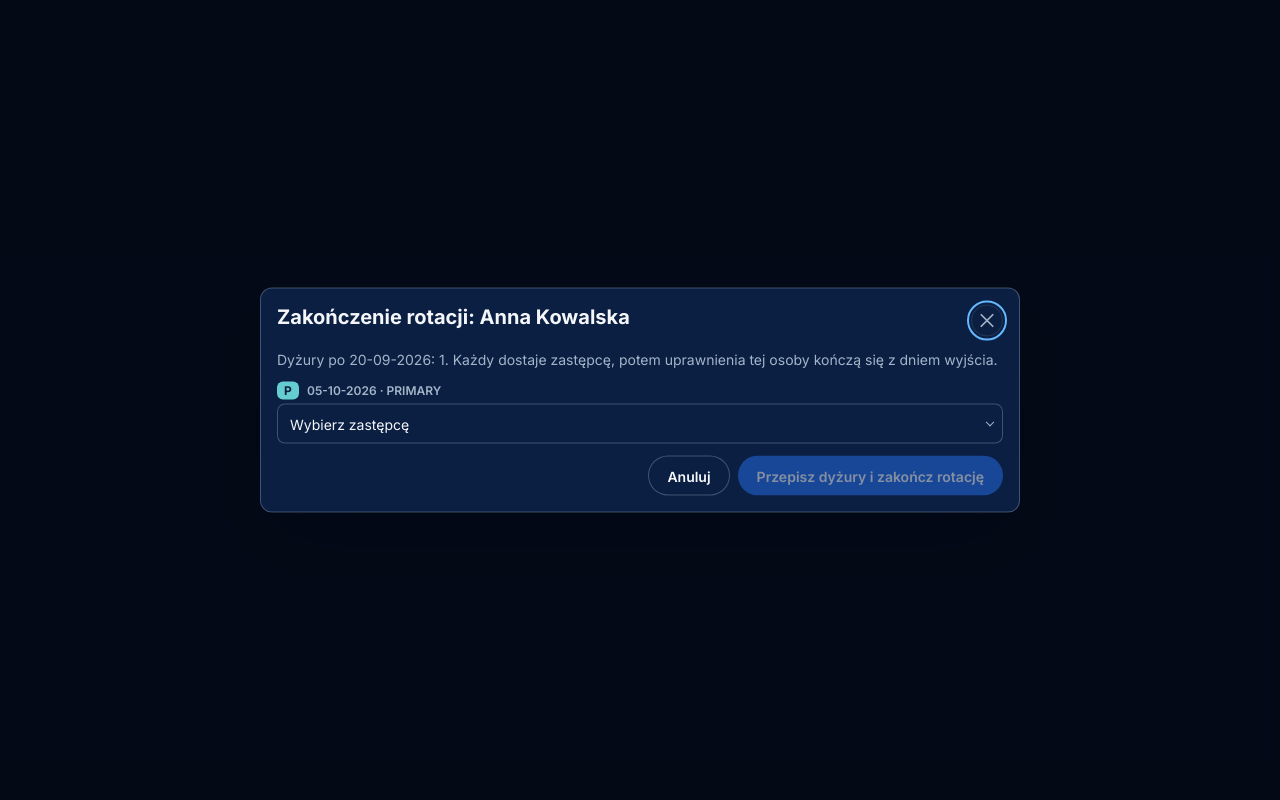
Test case: OffboardingDialog › shows a refused rewrite that names no rule as a plain failure
The width and height of the screenshot is (1280, 800).
Select "Marek Nowak" in the dropdown at [640, 424], box [277,404,1003,444]
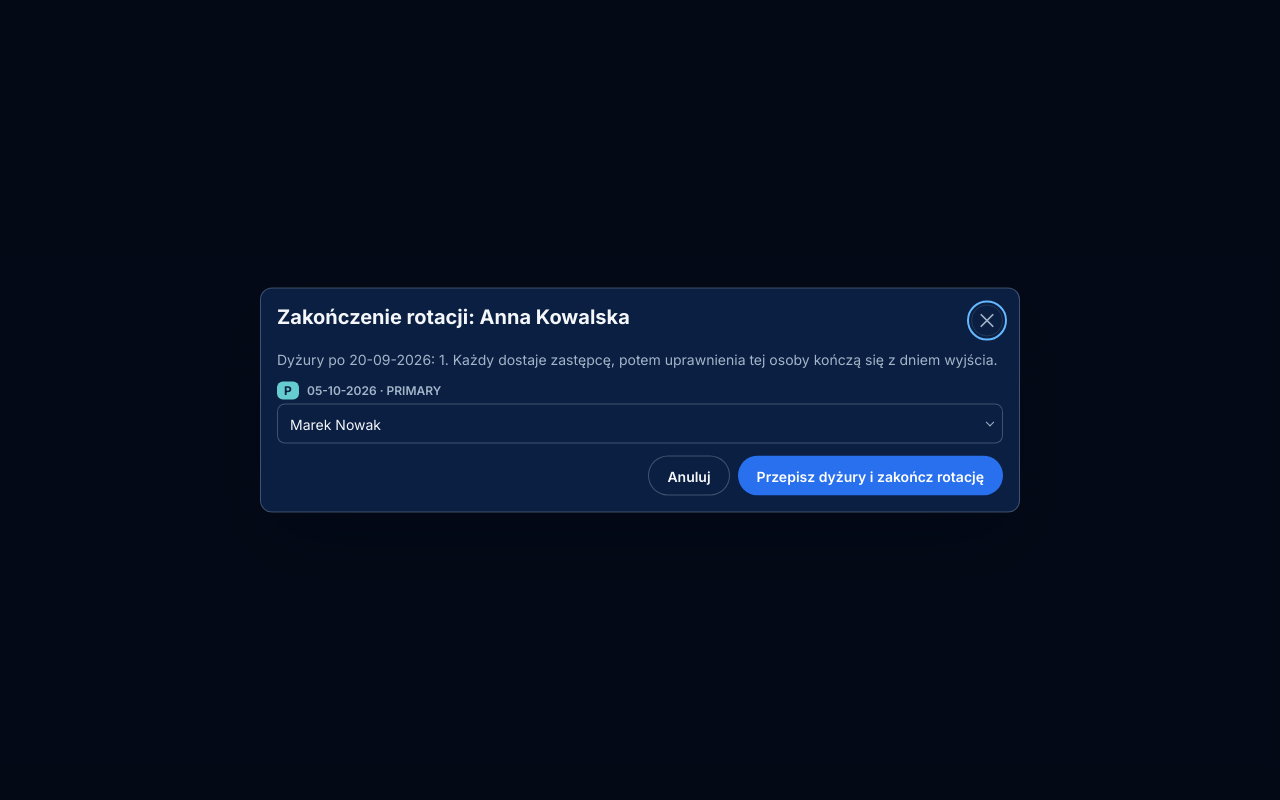
Click the button "Przepisz dyżury i zakończ rotację".
click(870, 476)  # box [738,456,1003,496]
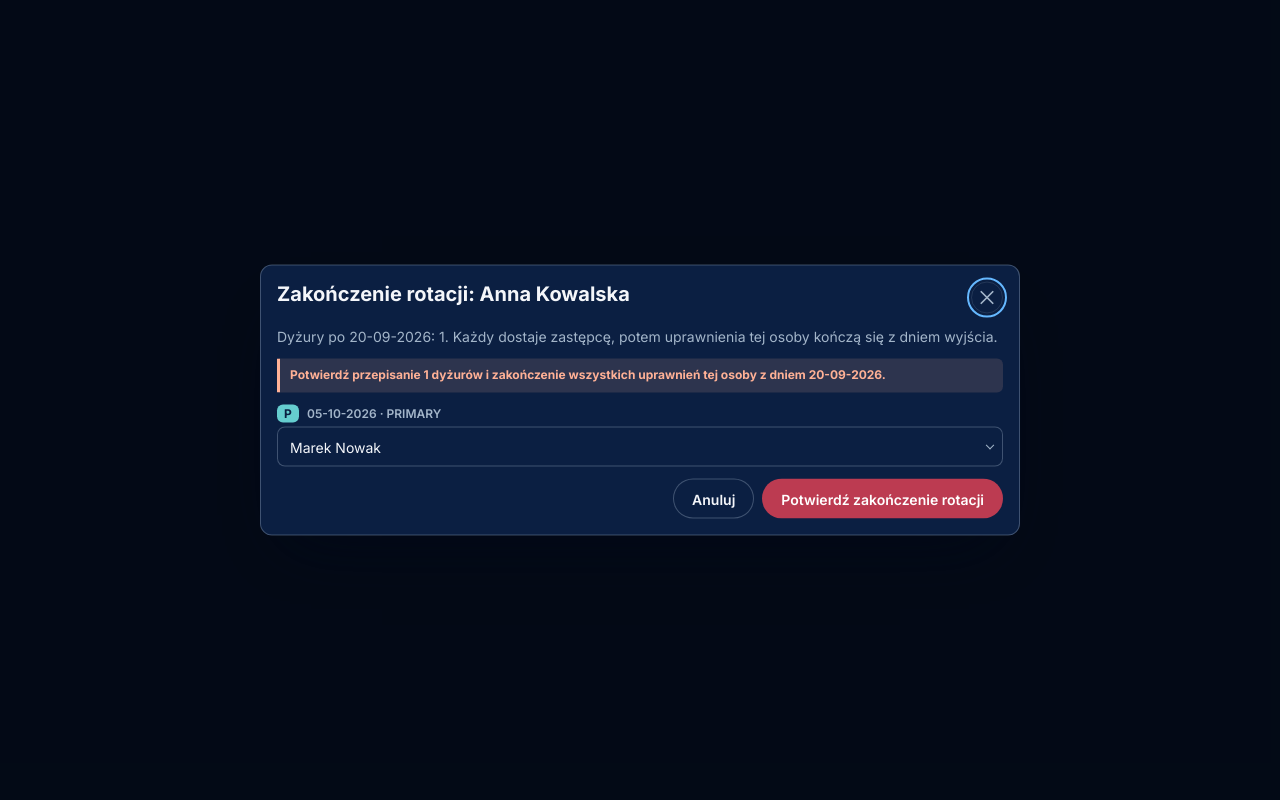
Click the button "Potwierdź zakończenie rotacji".
click(883, 498)  # box [762,478,1003,518]
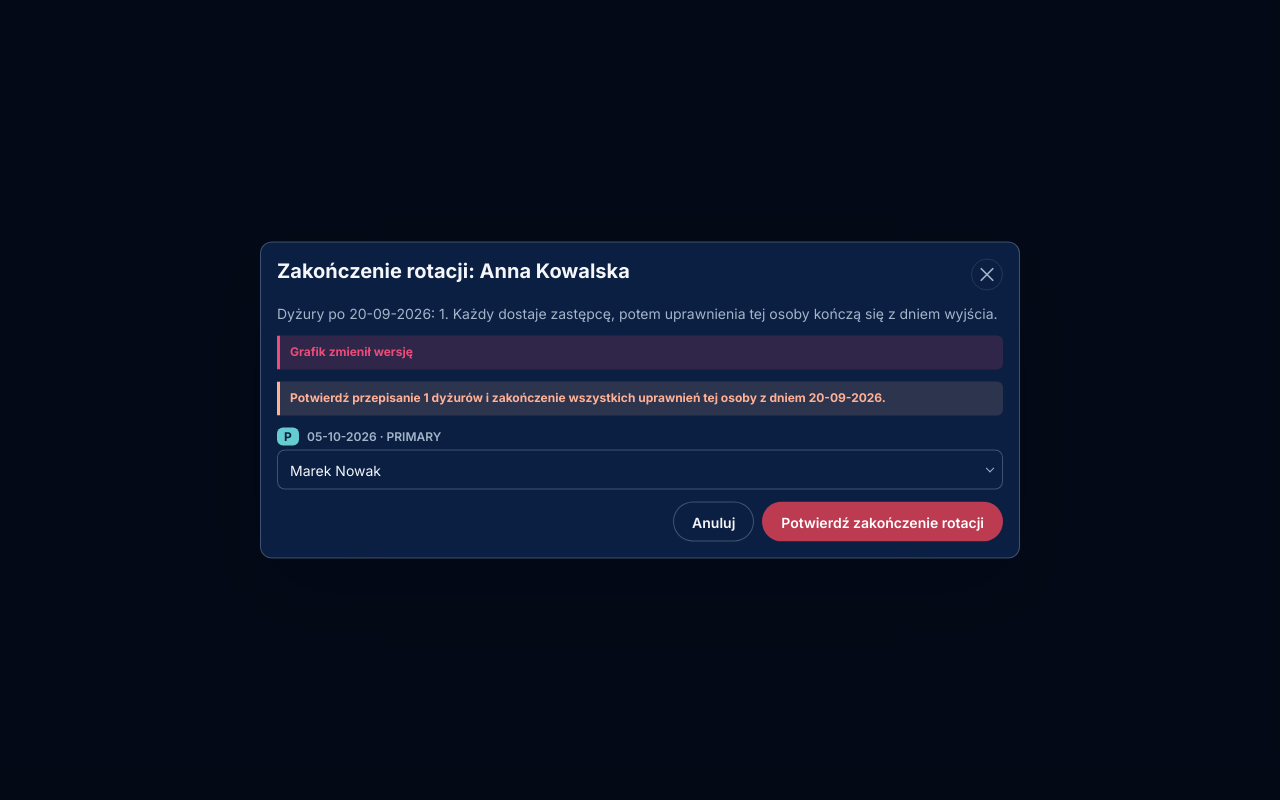
Now the message reads "Grafik zmienił wersję", box [290,344,413,358]
